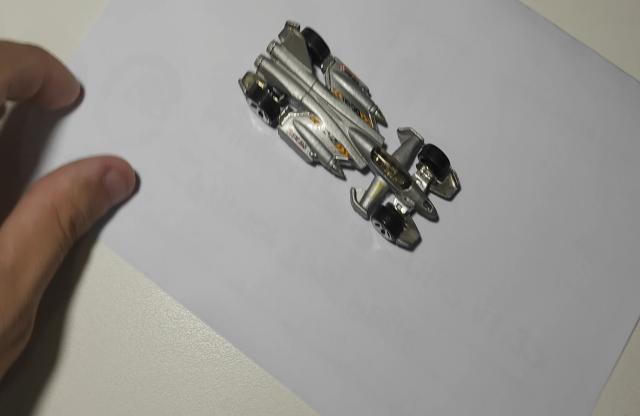05_DC121: (237, 20, 463, 253)
